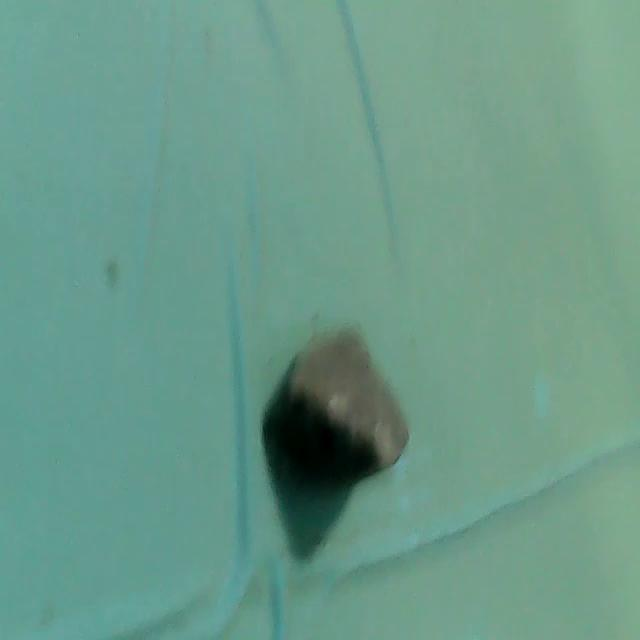rock: (258, 323, 415, 497)
